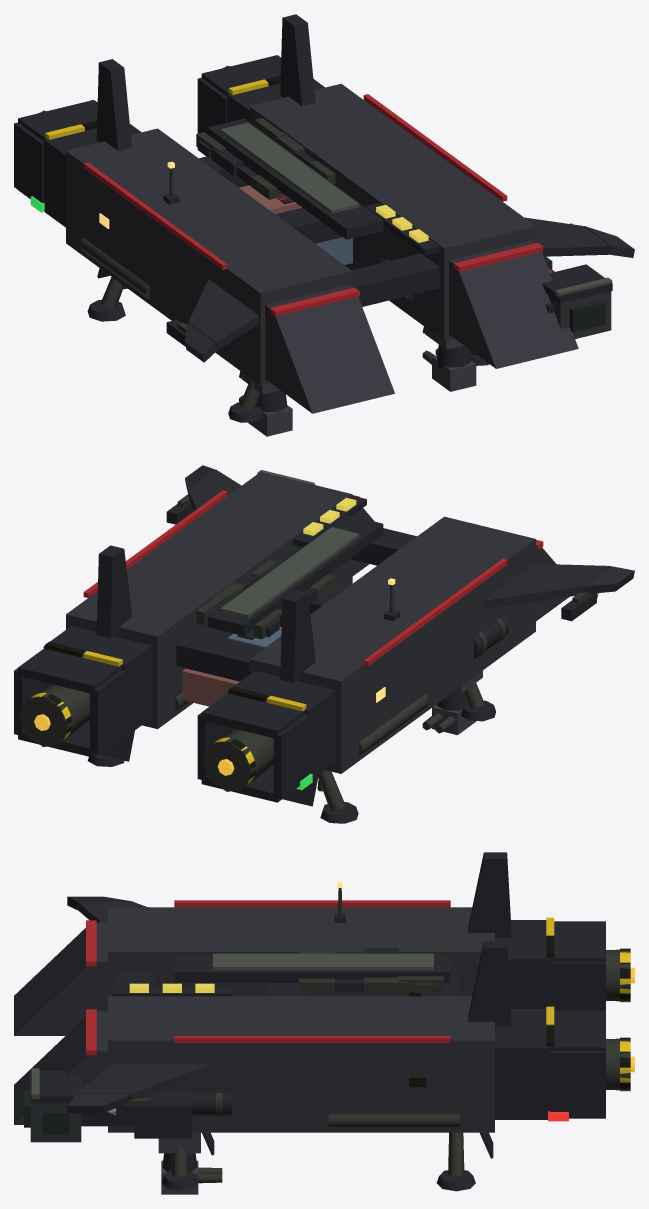
File: bulk-s.glb
The picture shows the model from 3 angles, top to bottom: view 1: azimuth 30°, elevation 25°; view 2: azimuth 150°, elevation 25°; view 3: azimuth 270°, elevation 25°; orthographic projection.
Parts seen in each view (by area): view 1: hullMain, hullSection1, hullNoseLeft, hullNoseRight, dorsalSpine, accentStripe, crossbeam2, canardInnerLeft, stabilizerFinL, stabilizerFinR, engineBayLeft, canardInnerRight (+21 smaller); view 2: hullMain, hullSection1, engineHousing (×2), engineBayRight, engineBayLeft, accentStripe, dorsalSpine, canardInnerLeft, crossbeam0, shroudTopLeft, shroudTopRight, stabilizerFinL (+22 smaller); view 3: hullSection1, hullMain, hullNoseLeft, engineBayRight, accentStripe, dorsalSpine, engineBayLeft, shroudSideRightR, hullNoseRight, canardInnerRight, stabilizerFinL, stabilizerFinR (+24 smaller).
Boxes of the visible parts, bbox=[...] form: hullMain: bbox=[66, 128, 352, 385]; hullSection1: bbox=[249, 83, 535, 340]; hullNoseLeft: bbox=[265, 285, 394, 413]; hullNoseRight: bbox=[449, 240, 578, 368]; dorsalSpine: bbox=[207, 118, 383, 239]; accentStripe: bbox=[220, 122, 359, 213]; crossbeam2: bbox=[352, 253, 439, 306]; canardInnerLeft: bbox=[188, 279, 258, 350]; stabilizerFinL: bbox=[96, 59, 131, 150]; stabilizerFinR: bbox=[280, 14, 315, 106]; engineBayLeft: bbox=[43, 124, 141, 227]; canardInnerRight: bbox=[524, 217, 610, 256]; hullMain: bbox=[249, 516, 535, 773]; hullSection1: bbox=[66, 472, 352, 729]; engineHousing (×2): bbox=[19, 684, 273, 791]; engineBayRight: bbox=[43, 626, 152, 737]; engineBayLeft: bbox=[227, 670, 335, 778]; accentStripe: bbox=[220, 527, 359, 618]; dorsalSpine: bbox=[207, 515, 383, 635]; canardInnerLeft: bbox=[484, 563, 610, 608]; crossbeam0: bbox=[176, 631, 263, 681]; shroudTopLeft: bbox=[201, 693, 305, 738]; shroudTopRight: bbox=[18, 648, 121, 694]; stabilizerFinL: bbox=[280, 590, 315, 682]; hullSection1: bbox=[108, 996, 494, 1132]; hullMain: bbox=[108, 907, 494, 996]; hullNoseLeft: bbox=[14, 922, 107, 1035]; engineBayRight: bbox=[495, 1009, 550, 1119]; accentStripe: bbox=[213, 953, 433, 970]; dorsalSpine: bbox=[174, 954, 450, 982]; engineBayLeft: bbox=[495, 920, 550, 1008]; shroudSideRightR: bbox=[550, 1051, 605, 1116]; hullNoseRight: bbox=[14, 1011, 107, 1124]; canardInnerRight: bbox=[77, 1064, 211, 1099]; stabilizerFinL: bbox=[468, 852, 511, 937]; stabilizerFinR: bbox=[468, 941, 511, 1026].
Bounding box in the file's own units: 3.77 × 2.04 × 4.72.
